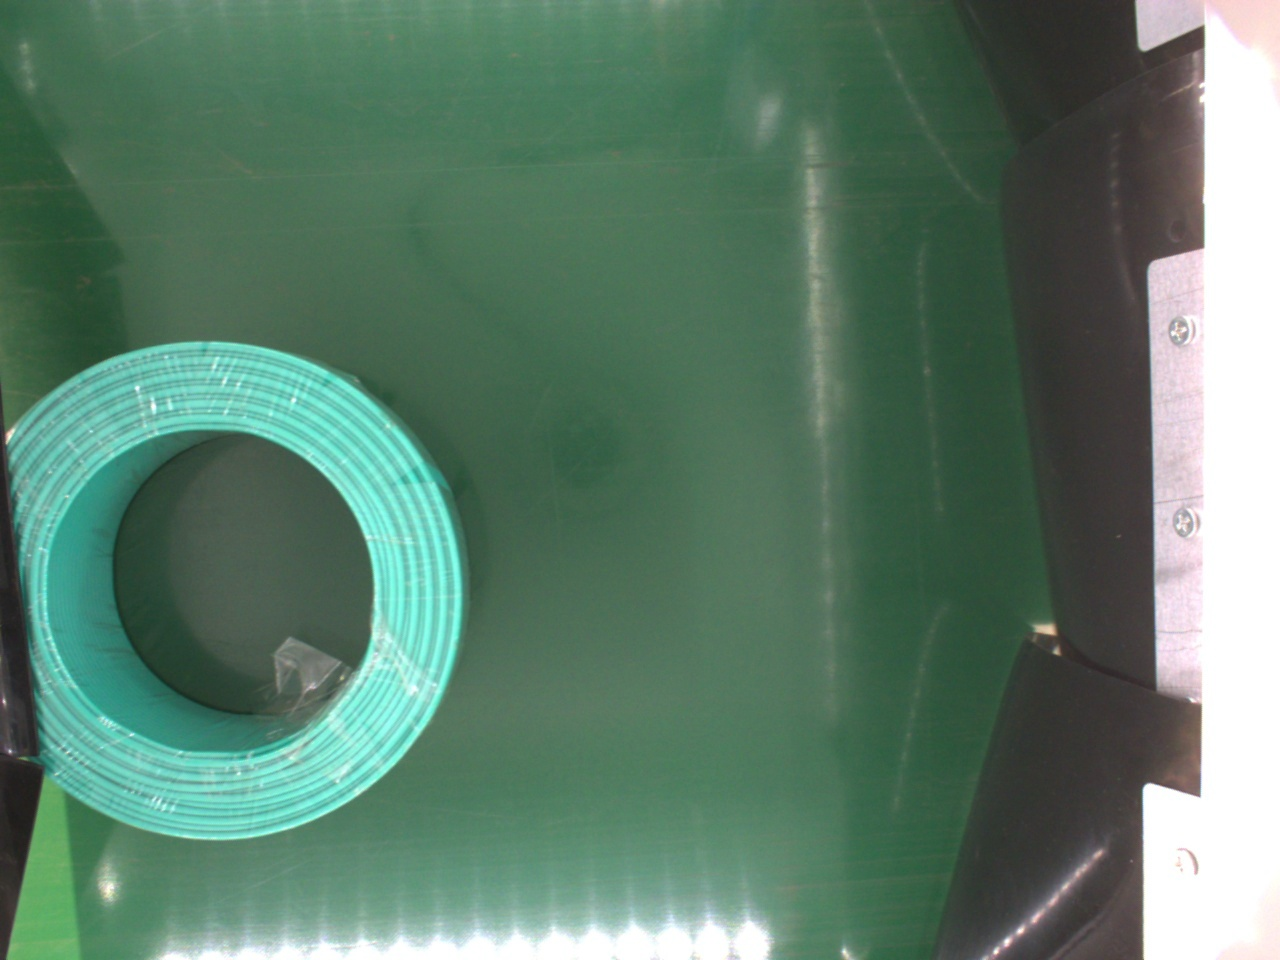green: (4, 337, 468, 843)
